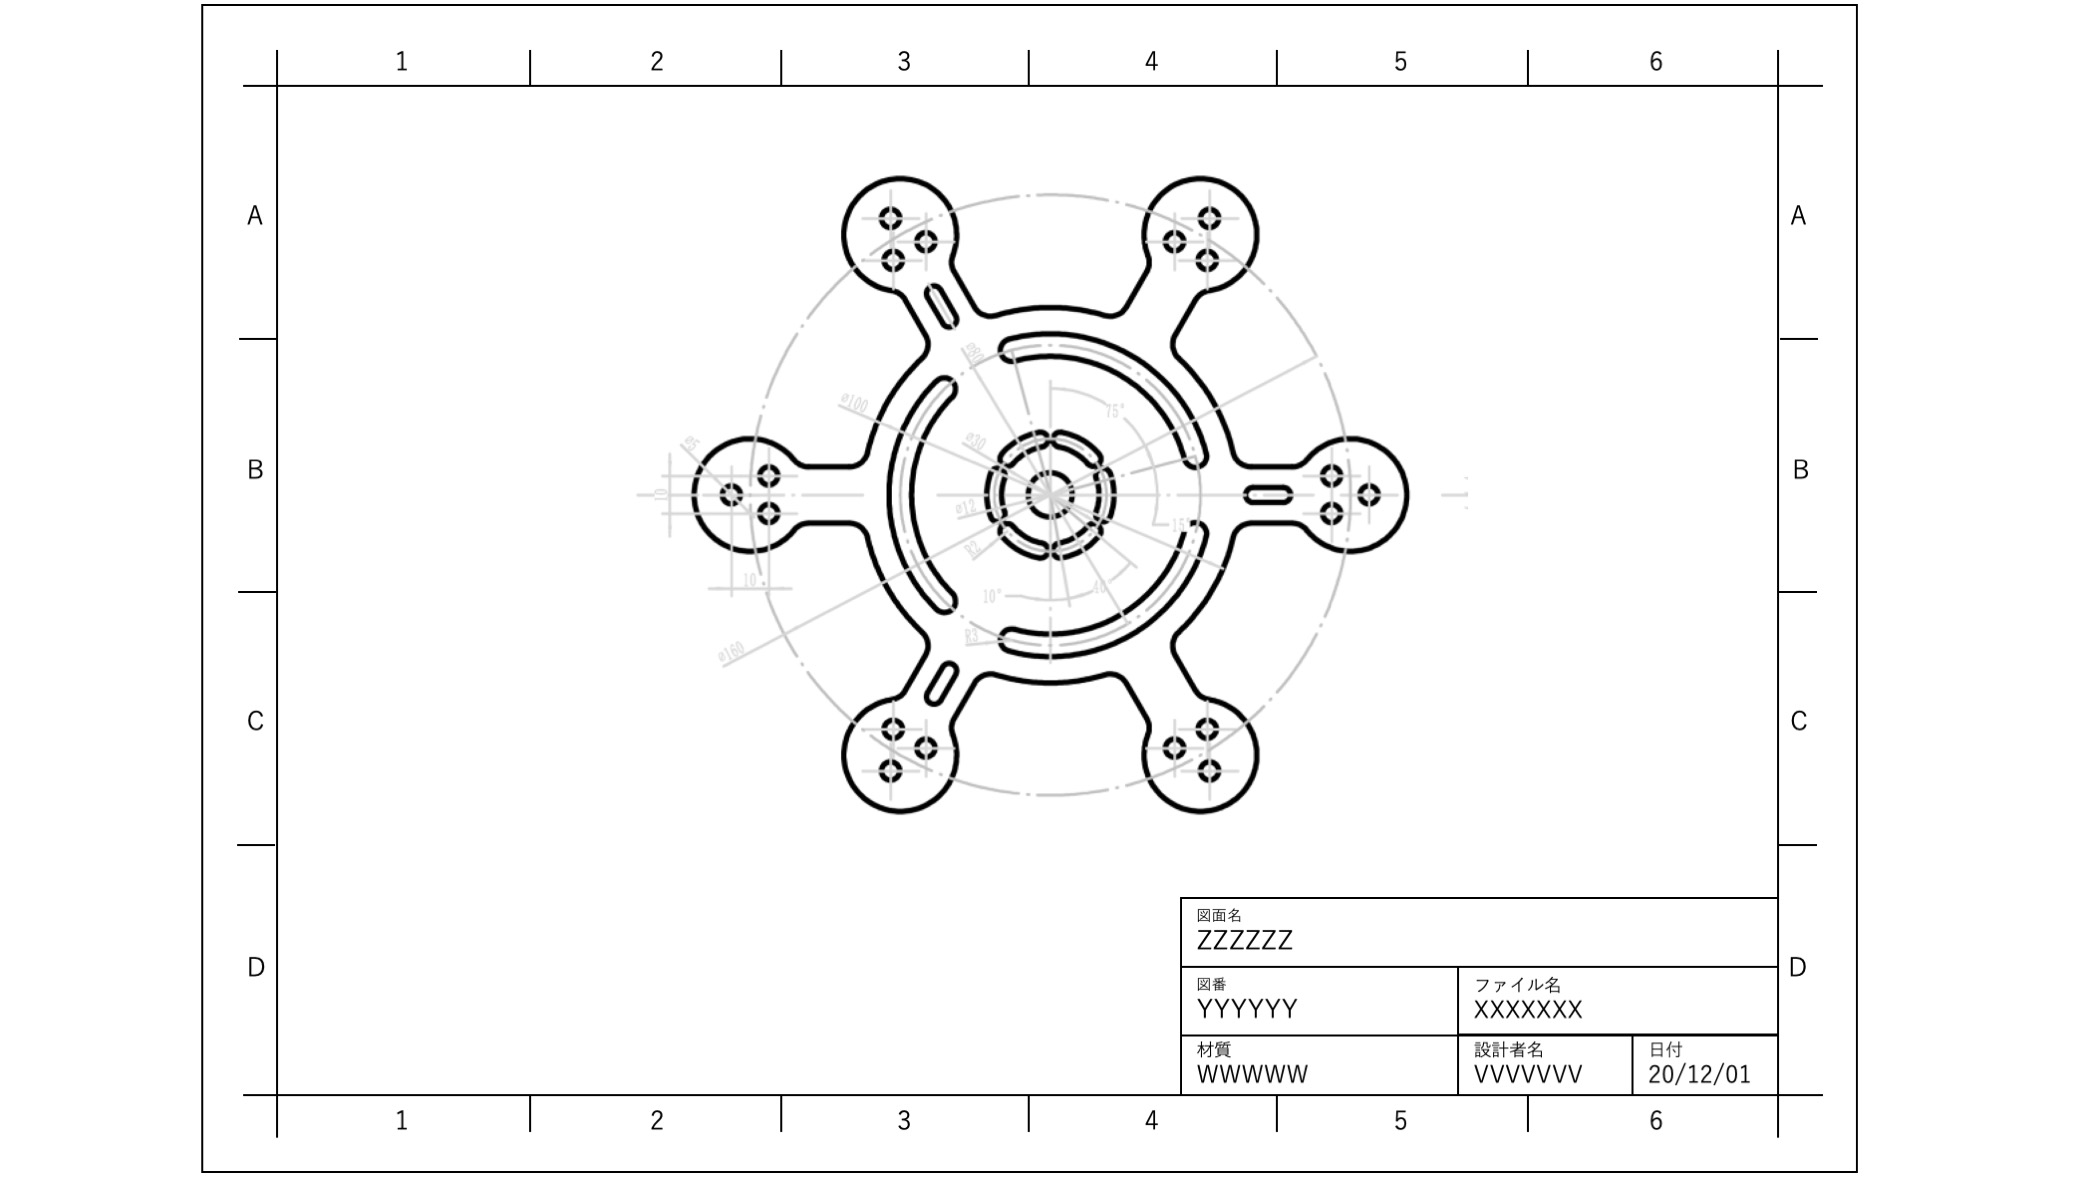circle: (909, 722, 949, 761), (1354, 472, 1389, 513), (1187, 707, 1225, 744), (1155, 725, 1194, 761), (1317, 453, 1351, 493), (1308, 497, 1351, 529), (877, 708, 912, 747), (1190, 235, 1219, 280), (1191, 750, 1226, 784), (751, 493, 783, 531), (1160, 221, 1191, 257), (712, 474, 743, 512), (873, 239, 909, 270), (871, 202, 907, 231), (754, 456, 782, 489), (1196, 193, 1223, 226), (871, 756, 901, 783), (913, 224, 937, 252)
rectangle: (1024, 469, 1080, 519)
round_rectangle: (997, 513, 1210, 663), (992, 329, 1210, 472), (867, 363, 962, 617), (917, 270, 966, 337), (991, 420, 1049, 473), (1050, 423, 1108, 474), (989, 519, 1050, 567), (1049, 518, 1106, 562), (925, 647, 961, 714), (976, 461, 1012, 522), (1242, 472, 1298, 508), (1090, 460, 1121, 526)
